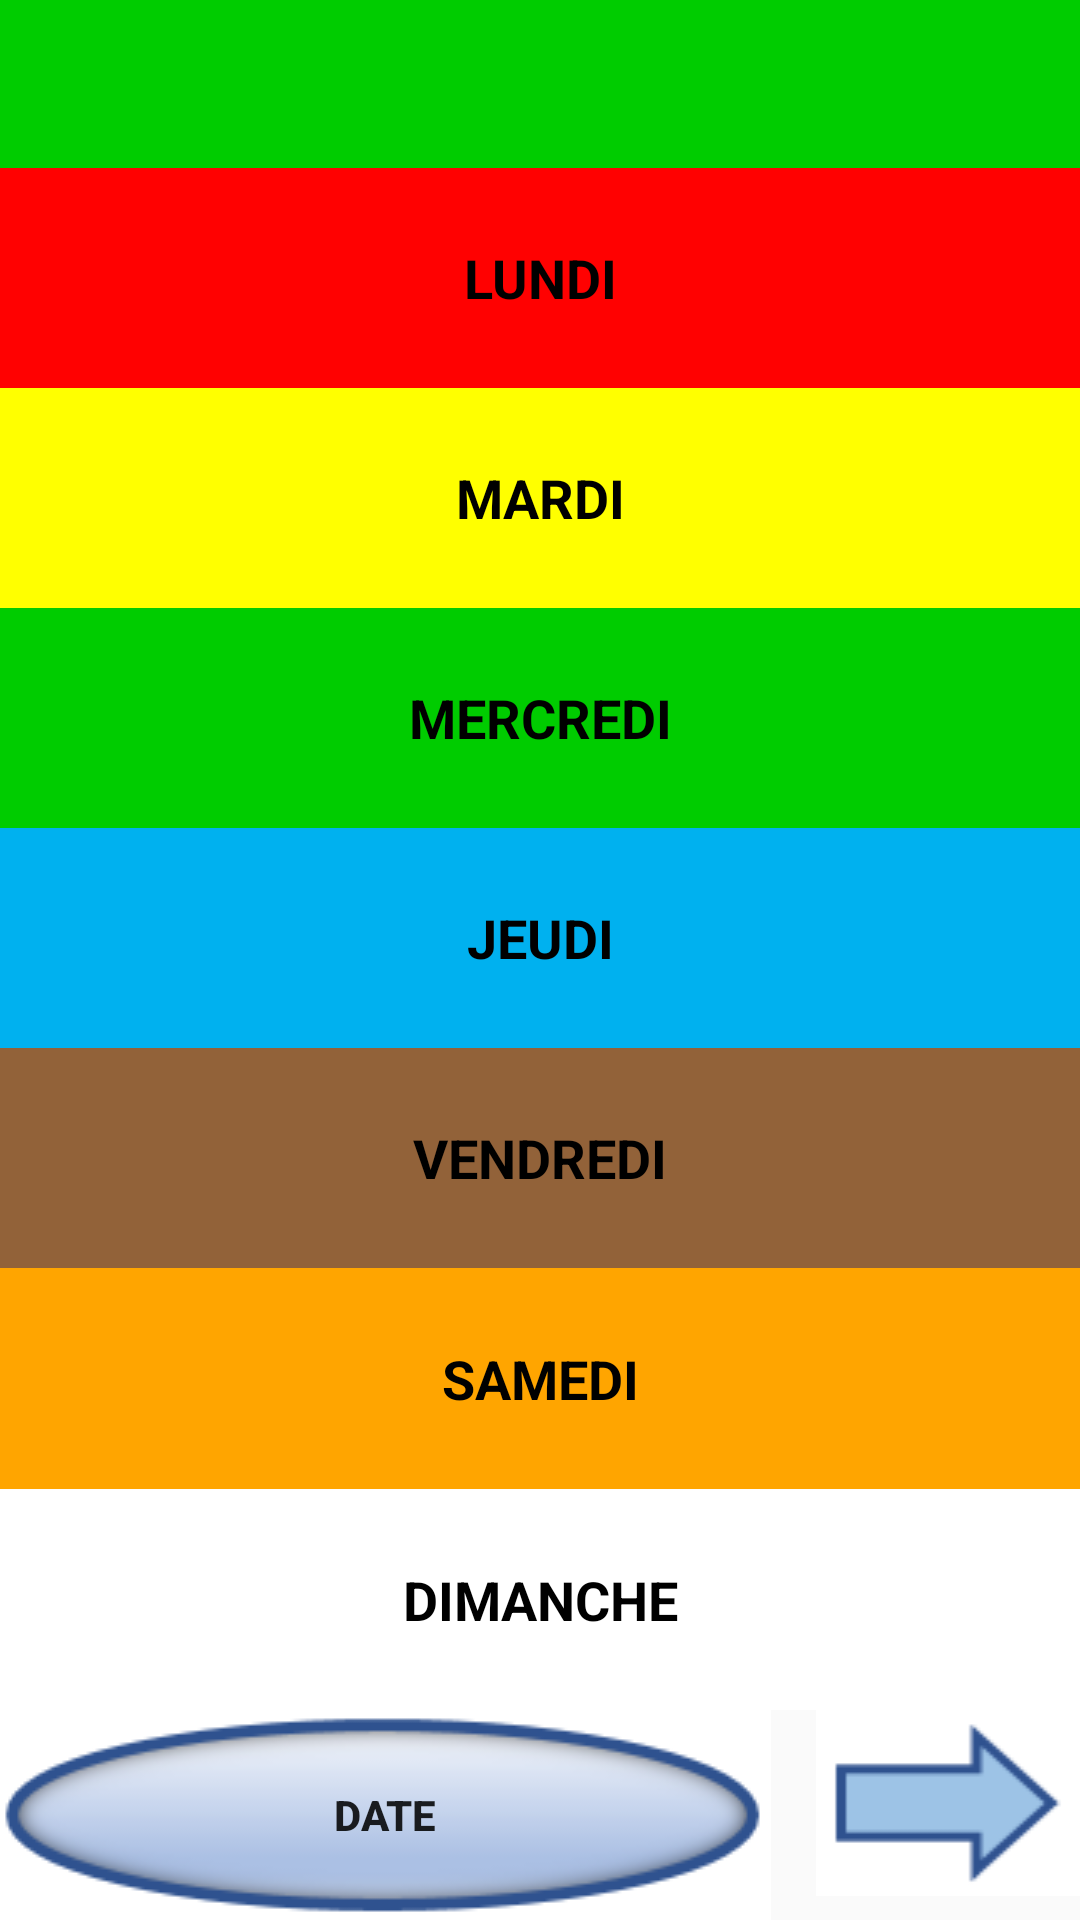

Locate icon controls on the screen. Image size 1080×1920, boxes as (x1, y1, x2, y2).
fleche: (835, 1724, 1060, 1882)
